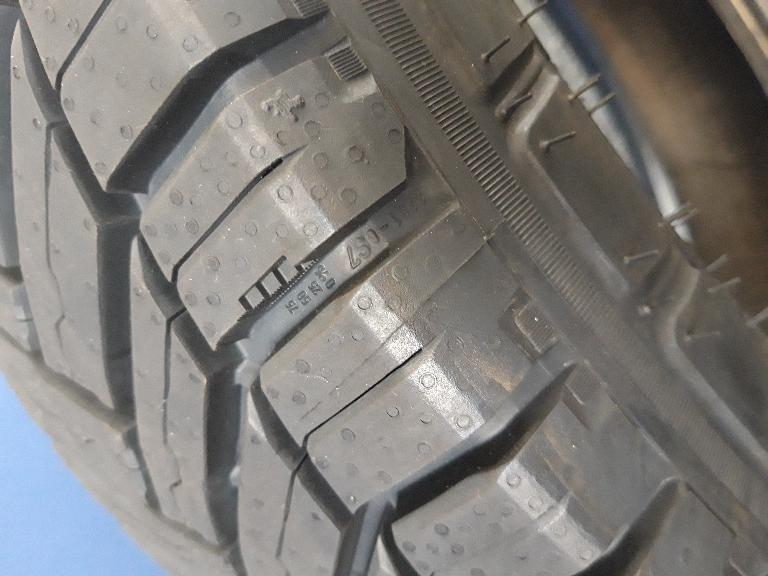temoin:100: (236, 254, 318, 322)
